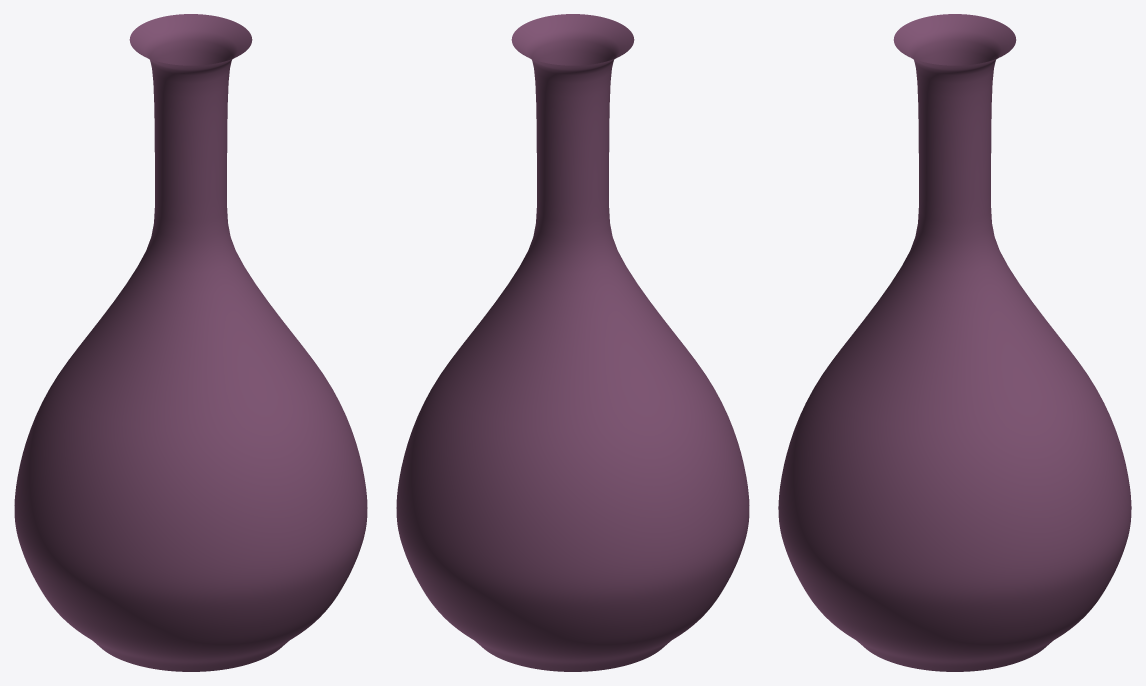
The model's file is bsl_vase.gltf.
3 renders of one model, left to right at view 1: azimuth 30°, elevation 25°; view 2: azimuth 150°, elevation 25°; view 3: azimuth 270°, elevation 25°, orthographic.
Visible parts, largest first — view 1: Vase; view 2: Vase; view 3: Vase.
Part boxes in pixels (box(x1,y1,x2,y2)): Vase: box(14, 14, 367, 671); Vase: box(396, 14, 749, 671); Vase: box(778, 14, 1131, 671).
Size of the model in its own units: 0.4795 by 0.8841 by 0.4795.
